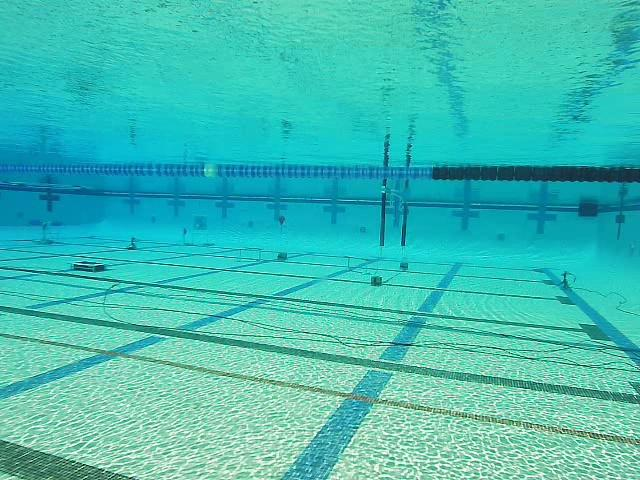dropper: (67, 260, 106, 272)
gate_leg_l: (380, 177, 387, 247)
gate_leg_r: (400, 199, 409, 247)
table: (26, 217, 66, 244)
torpedo: (190, 214, 208, 231)
